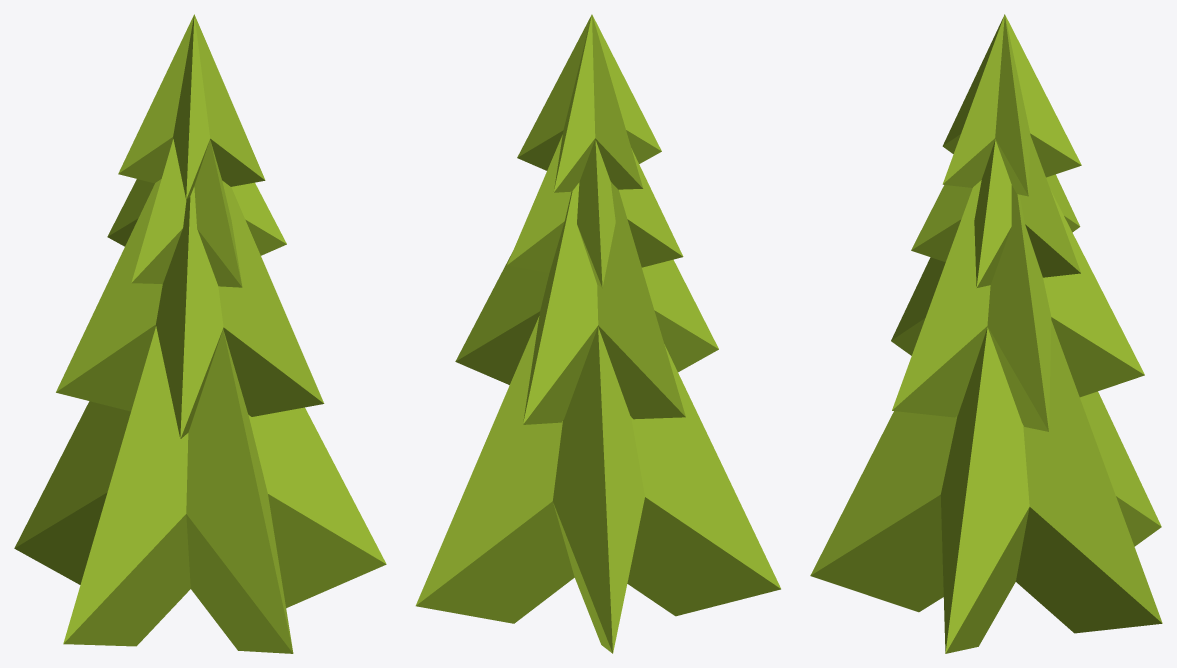
Rendered from tree.glb.
3 renders of one model, left to right at view 1: azimuth 30°, elevation 25°; view 2: azimuth 150°, elevation 25°; view 3: azimuth 270°, elevation 25°, orthographic.
Parts seen in each view (by area): view 1: Cone; view 2: Cone; view 3: Cone.
Part boxes in pixels (left/top/right/bottom): Cone: left=14, top=14, right=386, bottom=653; Cone: left=415, top=14, right=780, bottom=653; Cone: left=810, top=14, right=1162, bottom=653.
Bounding box in the file's own units: 6.02 × 10.73 × 5.73.
